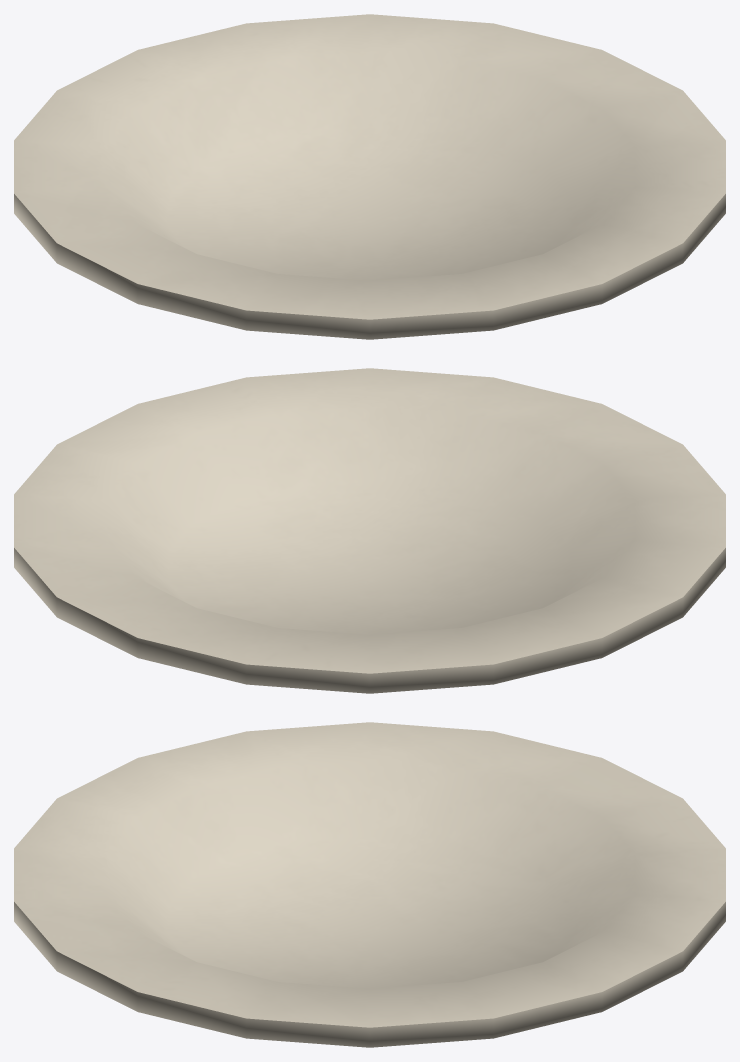
Rendered from PlateB.fbx.
The picture shows the model from 3 angles, top to bottom: view 1: azimuth 30°, elevation 25°; view 2: azimuth 150°, elevation 25°; view 3: azimuth 270°, elevation 25°; orthographic projection.
Parts seen in each view (by area): view 1: Plate; view 2: Plate; view 3: Plate.
Boxes of the visible parts, x1,y1,x2,y2 form: Plate: (14,14,725,339); Plate: (14,368,725,693); Plate: (14,722,725,1047).
Size of the model in its own units: 23.19 by 2.48 by 22.84.
